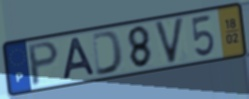5: (190, 13, 217, 58)
8: (126, 24, 154, 70)
A: (60, 36, 98, 82)
D: (90, 29, 125, 78)
P: (27, 40, 61, 89)
V: (153, 15, 186, 66)
